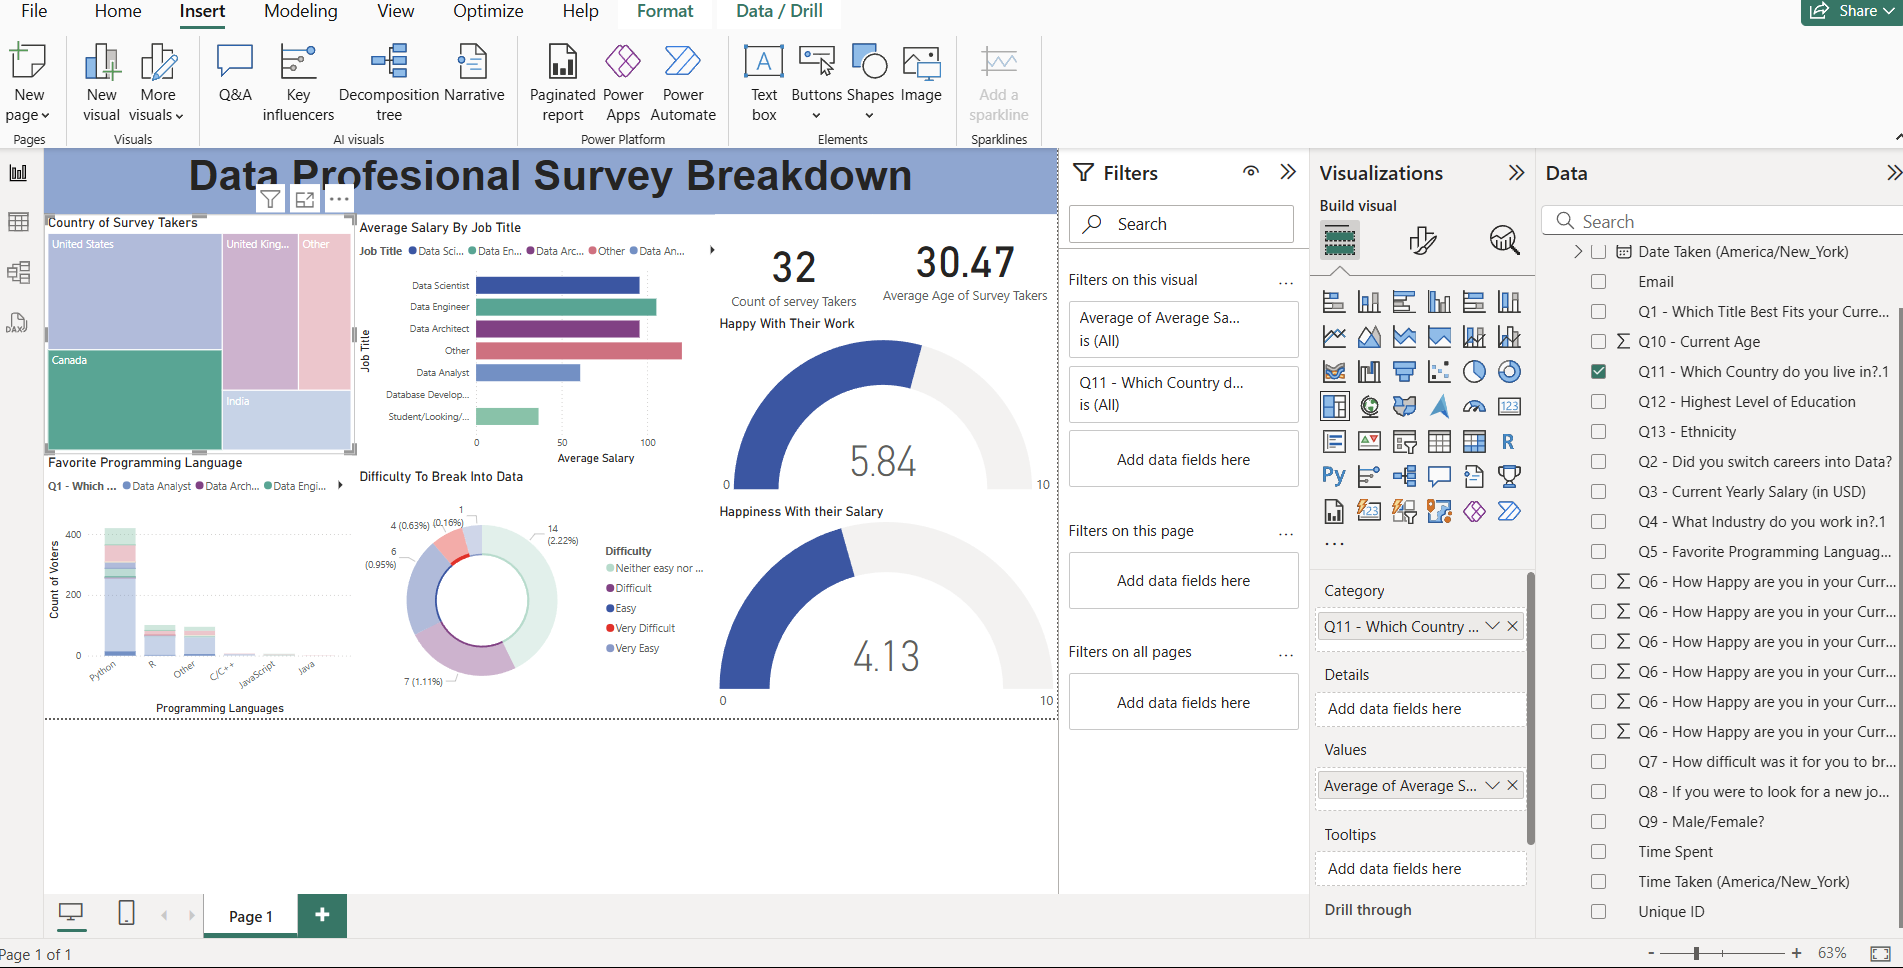

This screenshot's page, from the dashboard's own definition file:
{"tool":"powerbi","page":{"name":"Page 1","canvas":[1280,720],"ordinal":0},"visuals":[{"type":"textbox","box":[0,0,1280.3,83.7],"z":0},{"type":"card","fields":{"Values":["CountNonNull(Data Professional Survey.Unique ID)"]},"box":[847.8,83.7,198.9,142.1],"z":1000},{"type":"card","fields":{"Values":["Avg(Data Professional Survey.Q10 - Current Age)"]},"box":[1046.7,83.7,233.6,127.9],"z":2000},{"type":"barChart","title":"Average Salary By Job Title","fields":{"Category":["Data Professional Survey.Q1 - Which Title Best Fits your Current Role?.1"],"Y":["Avg(Data Professional Survey.Average Salary)"],"Series":["Data Professional Survey.Q1 - Which Title Best Fits your Current Role?.1"]},"box":[393.1,90,470.5,314.2],"z":3000},{"type":"columnChart","title":"Favorite Programming Language","fields":{"Category":["Data Professional Survey.Q5 - Favorite Programming Language.1"],"Y":["CountNonNull(Data Professional Survey.Unique ID)"],"Series":["Data Professional Survey.Q1 - Which Title Best Fits your Current Role?.1"]},"box":[0,386.8,393.1,333.1],"z":4000},{"type":"treemap","title":"Country of Survey Takers","fields":{"Group":["Data Professional Survey.Q11 - Which Country do you live in?.1"],"Values":["Avg(Data Professional Survey.Average Salary)"]},"box":[0,83.7,393.1,303.1],"z":5000},{"type":"gauge","title":"Happy With Their Work","fields":{"Y":["Avg(Data Professional Survey.Q6 - How Happy are you in your Current Position with the following? (Coworkers))"],"MinValue":["Min(Data Professional Survey.Q6 - How Happy are you in your Current Position with the following? (Coworkers))1"],"MaxValue":["Max(Data Professional Survey.Q6 - How Happy are you in your Current Position with the following? (Coworkers))2"]},"box":[847.8,211.5,432.6,236.8],"z":6000},{"type":"gauge","title":"Happiness With their Salary","fields":{"Y":["Avg(Data Professional Survey.Q6 - How Happy are you in your Current Position with the following? (Salary))"],"MinValue":["Min(Data Professional Survey.Q6 - How Happy are you in your Current Position with the following? (Salary))"],"MaxValue":["Max(Data Professional Survey.Q6 - How Happy are you in your Current Position with the following? (Salary))"]},"box":[847.8,448.3,432.6,271.5],"z":7000},{"type":"donutChart","title":"Difficulty To Break Into Data","fields":{"Category":["Data Professional Survey.Q7 - How difficult was it for you to break into Data?"],"Y":["CountNonNull(Data Professional Survey.Average Salary)"]},"box":[393.1,404.1,454.7,315.7],"z":8000}]}

Visuals, with their boxes on the page's 1280x720 design canvas (x1, y1, x2, y2). These are canvas units, not pixel positions in the 1903x968 screenshot, which may show the page scaled, cropped or inside an application window:
textbox: {"left": 0, "top": 0, "right": 1280, "bottom": 84}
card - CountNonNull(Data Professional Survey.Unique ID): {"left": 848, "top": 84, "right": 1047, "bottom": 226}
card - Avg(Data Professional Survey.Q10 - Current Age): {"left": 1047, "top": 84, "right": 1280, "bottom": 212}
"Average Salary By Job Title" barChart: {"left": 393, "top": 90, "right": 864, "bottom": 404}
"Favorite Programming Language" columnChart: {"left": 0, "top": 387, "right": 393, "bottom": 720}
"Country of Survey Takers" treemap: {"left": 0, "top": 84, "right": 393, "bottom": 387}
"Happy With Their Work" gauge: {"left": 848, "top": 212, "right": 1280, "bottom": 448}
"Happiness With their Salary" gauge: {"left": 848, "top": 448, "right": 1280, "bottom": 720}
"Difficulty To Break Into Data" donutChart: {"left": 393, "top": 404, "right": 848, "bottom": 720}
